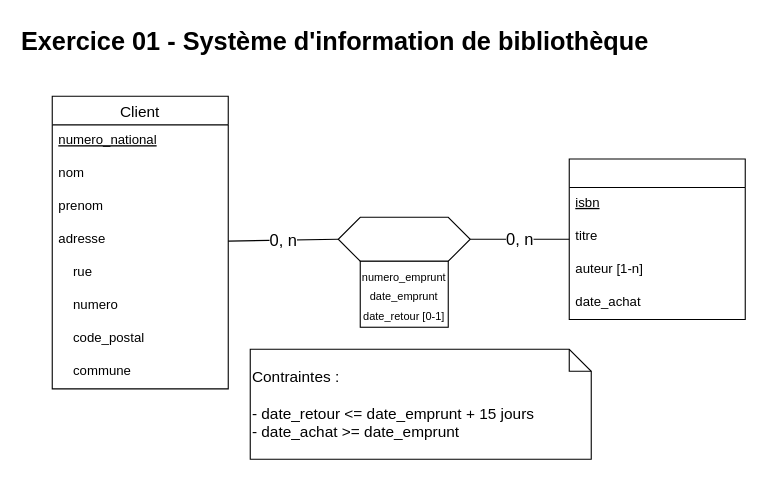
Image size: 765x479. Some labels were removed from this diagram. The shapes that lost their labels are listed below. From the top down, each one's box as (x1, y1, x2, y2) in pixels, then its label:
(337, 216, 470, 261): emprunt
(568, 158, 745, 320): Livre
